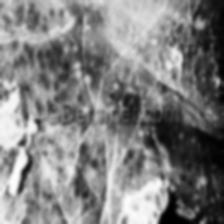Non-Cancerous Skin Condition: (57, 0, 224, 101), (57, 131, 220, 224), (1, 19, 44, 224)
